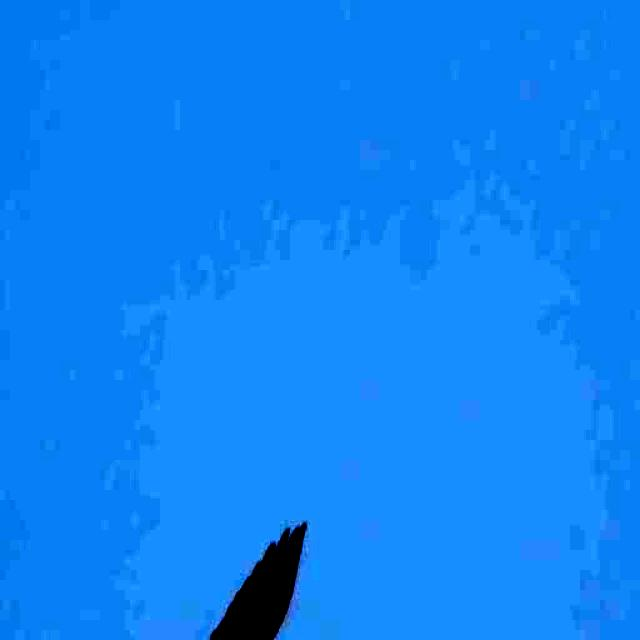airplane: (0, 508, 318, 640)
